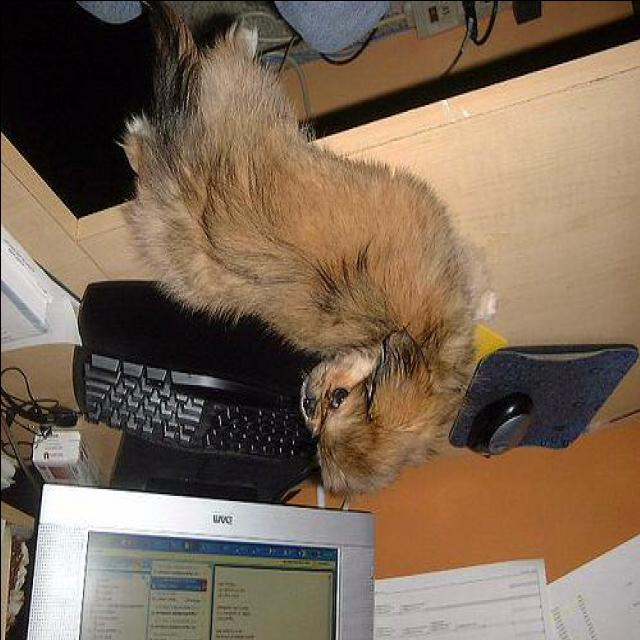pekinese: (112, 1, 500, 504)
